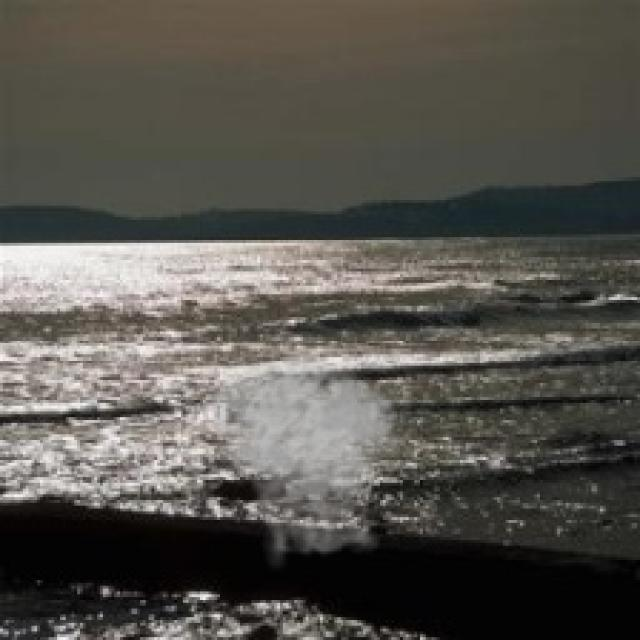Smoke: (200, 352, 417, 572)
